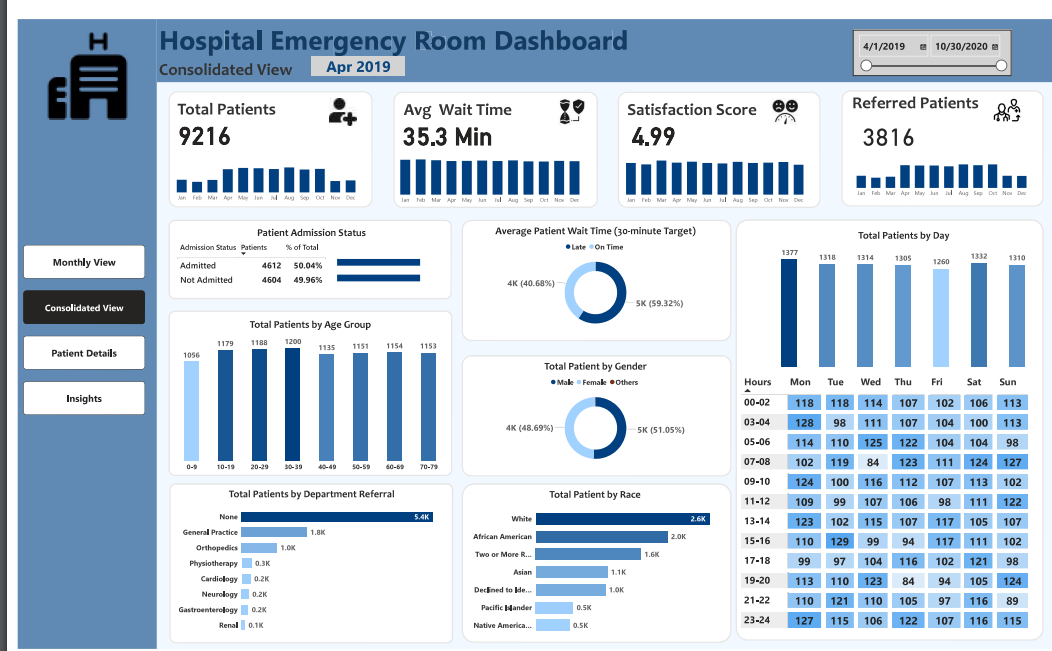

The page's visual inventory and layout, read from the dashboard file:
{"tool":"powerbi","page":{"name":"Consolidated View","canvas":[2300,1400],"ordinal":1},"visuals":[{"type":"textbox","box":[309.3,0,1080.1,96.1],"z":0},{"type":"shape","box":[1596,445.2,685,936.9],"z":0,"group":"g12"},{"type":"shape","box":[335.2,648,630.7,368.1],"z":0,"group":"g6"},{"type":"shape","box":[337,1031.6,630.7,356],"z":0,"group":"g7"},{"type":"shape","box":[0,0,309.3,1399.9],"z":1000},{"type":"clusteredColumnChart","fields":{"Category":["Hospital ER.Age Group"],"Y":["Hospital ER.Total Patients"]},"box":[335.2,663.6,630.7,352.5],"z":1000,"group":"g6"},{"type":"pivotTable","fields":{"Rows":["Hospital ER.Waittime Interval"],"Values":["Hospital ER.Total Patients"],"Columns":["Date Table.Day"]},"box":[1604.7,784.8,665.7,583.2],"z":1000,"group":"g12"},{"type":"clusteredBarChart","title":"Total Patients by Department Referral","fields":{"Category":["Hospital ER.department_referral"],"Y":["Hospital ER.Total Patients"]},"box":[350.8,1040.2,604.8,337],"z":1000,"group":"g7"},{"type":"shape","box":[309.3,0,1990.7,140],"z":2000},{"type":"textbox","box":[308.9,82.8,319.2,56.9],"z":3000},{"type":"shape","box":[335.2,445.8,630,177],"z":3000,"group":"g5"},{"type":"shape","box":[986.7,445.8,600,270],"z":3000,"group":"g8"},{"type":"shape","box":[986.7,746.5,600,270],"z":3000,"group":"g10"},{"type":"shape","box":[987.2,1032.3,600,355],"z":3000,"group":"g11"},{"type":"slicer","fields":{"Values":["Date Table.Date"]},"box":[1856.6,24.2,352,101.8],"z":4000},{"type":"shape","box":[1830.7,158.2,449.7,259.2],"z":4000,"group":"g13"},{"type":"shape","box":[334.7,160.5,454.1,259.2],"z":4000,"group":"g1"},{"type":"shape","box":[834.1,160.7,455.5,259.2],"z":4000,"group":"g2"},{"type":"shape","box":[1334.5,160.7,451.4,259.2],"z":4000,"group":"g3"},{"type":"card","fields":{"Values":["Min(Date Table.Month & Year)"]},"box":[653.9,82.8,207.1,43.1],"z":5000},{"type":"card","fields":{"Values":["Hospital ER.Total Patients"]},"box":[334.7,215.8,160.4,74.3],"z":5000,"group":"g1"},{"type":"card","fields":{"Values":["Hospital ER.Satisgaction Score"]},"box":[1334.5,216,159.4,74.3],"z":5000,"group":"g3"},{"type":"card","fields":{"Values":["Hospital ER.Avg Wait time"]},"box":[849.9,216.5,210.8,74.3],"z":5000,"group":"g2"},{"type":"card","fields":{"Values":["Hospital ER.Referred Patient"]},"box":[1856.7,218.2,158.3,74.3],"z":5000,"group":"g13"},{"type":"group","id":"g1","title":"Group 1","box":[334.7,160.5,1965.3,258.8],"z":6000},{"type":"group","id":"g2","title":"Group 1","box":[831.6,160.7,458.1,259.2],"z":7000},{"type":"textbox","box":[1841.4,157,336.5,75.9],"z":8000,"group":"g13"},{"type":"group","id":"g3","title":"Group 1","box":[1334.5,160.7,451.4,259.2],"z":8000},{"type":"textbox","box":[349.8,171.4,252.3,58.8],"z":8000,"group":"g1"},{"type":"textbox","box":[853.1,171.6,423.4,58.8],"z":8000,"group":"g2"},{"type":"textbox","box":[1342.3,171.6,314,58.7],"z":8000,"group":"g3"},{"type":"group","id":"g4","title":"Group 1","box":[1830.7,157,449.7,260.4],"z":9000},{"type":"columnChart","fields":{"Category":["Date Table.Month"],"Y":["Hospital ER.Referred Patient"]},"box":[1846.8,286.4,414.1,119.1],"z":9000,"group":"g13"},{"type":"columnChart","fields":{"Category":["Date Table.Month"],"Y":["Hospital ER.Total Patients"]},"box":[334.7,290.1,434.6,125],"z":9000,"group":"g1"},{"type":"columnChart","fields":{"Category":["Date Table.Month"],"Y":["Avg(Hospital ER.patient_waittime)"]},"box":[831.6,290.3,436,129.6],"z":9000,"group":"g2"},{"type":"columnChart","fields":{"Category":["Date Table.Month"],"Y":["Hospital ER.Satisfaction Score"]},"box":[1334.5,290.3,432,129.6],"z":9000,"group":"g3"},{"type":"group","id":"g5","title":"Group 2","box":[335.2,445.8,630.7,176.3],"z":10000},{"type":"group","id":"g6","title":"Group 3","box":[335.2,648,630.7,368.1],"z":11000},{"type":"pivotTable","title":"Patient Admission Status","fields":{"Rows":["Hospital ER.Admission Status"],"Values":["Hospital ER.Total Patients1","Hospital ER.Total Patients"]},"box":[350.8,459.6,604.8,148.6],"z":12000,"group":"g5"},{"type":"group","id":"g7","title":"Group 4","box":[337,1031.6,630.7,356],"z":12000},{"type":"group","id":"g8","title":"Group 5","box":[986.7,445.8,599.6,269.6],"z":13000},{"type":"barChart","fields":{"Category":["Hospital ER.Admission Status"],"Y":["Hospital ER.Total Patients"]},"box":[705,502.8,250.6,105.4],"z":13000,"group":"g5"},{"type":"group","id":"g9","title":"Group 5","box":[986.7,746.5,600,270],"z":14000},{"type":"donutChart","title":"Average Patient Wait Time (30-minute Target)","fields":{"Y":["Hospital ER.Total Patients"],"Category":["Hospital ER.Wait Time  Status"]},"box":[995.3,456.2,577.2,243.7],"z":14008,"group":"g8"},{"type":"donutChart","title":"Total Patient by Gender","fields":{"Y":["Hospital ER.Total Patients"],"Category":["Hospital ER.patient_gender"]},"box":[995.3,756.9,577.2,243.7],"z":14008,"group":"g10"},{"type":"clusteredBarChart","title":"Total Patient by Race","fields":{"Category":["Hospital ER.patient_race"],"Y":["Hospital ER.Total Patients"]},"box":[995.5,1042.2,577.2,340.4],"z":14008,"group":"g11"},{"type":"group","id":"g10","title":"Group 6","box":[986.7,746.5,600,270],"z":14011,"group":"g9"},{"type":"group","id":"g11","title":"Group 5","box":[987.2,1032.3,600,355],"z":15000},{"type":"group","id":"g12","title":"Group 3","box":[1596,445.2,685,936.9],"z":16000},{"type":"columnChart","fields":{"Category":["Date Table.Day"],"Y":["Hospital ER.Total Patients"]},"box":[1692.6,465.9,553.9,312.3],"z":17000},{"type":"image","box":[12.1,24.2,284.7,203.6],"z":18000},{"type":"image","box":[788.5,160.8,1511,259],"z":18003,"group":"g1"},{"type":"image","box":[666,170.8,113.9,69],"z":19000},{"type":"image","box":[1175,170.8,112.2,69],"z":20000},{"type":"image","box":[1649.5,170.8,112.2,69],"z":21000},{"type":"pageNavigator","box":[12.1,502.1,270.9,379.6],"z":22000},{"type":"group","id":"g13","title":"Group 7","box":[1830.7,157,449.7,260.4],"z":22001,"group":"g4"},{"type":"image","box":[2144.7,170.8,112,69],"z":23000}]}

Visuals, with their boxes in screenshot pixels (x1, y1, x2, y2), scaled from the page's 2300x1400 canvas onto the 1052x651 screenshot:
textbox: (x1=141, y1=0, x2=635, y2=45)
shape: (x1=730, y1=207, x2=1043, y2=643)
shape: (x1=153, y1=301, x2=442, y2=472)
shape: (x1=154, y1=480, x2=443, y2=645)
shape: (x1=0, y1=0, x2=141, y2=650)
clusteredColumnChart - Hospital ER.Age Group x Hospital ER.Total Patients: (x1=153, y1=309, x2=442, y2=472)
pivotTable - Hospital ER.Waittime Interval x Hospital ER.Total Patients: (x1=734, y1=365, x2=1038, y2=636)
"Total Patients by Department Referral" clusteredBarChart: (x1=160, y1=484, x2=437, y2=640)
shape: (x1=141, y1=0, x2=1051, y2=65)
textbox: (x1=141, y1=39, x2=287, y2=65)
shape: (x1=153, y1=207, x2=441, y2=290)
shape: (x1=451, y1=207, x2=726, y2=333)
shape: (x1=451, y1=347, x2=726, y2=473)
shape: (x1=452, y1=480, x2=726, y2=645)
slicer - Date Table.Date: (x1=849, y1=11, x2=1010, y2=59)
shape: (x1=837, y1=74, x2=1043, y2=194)
shape: (x1=153, y1=75, x2=361, y2=195)
shape: (x1=382, y1=75, x2=590, y2=195)
shape: (x1=610, y1=75, x2=817, y2=195)
card - Min(Date Table.Month & Year): (x1=299, y1=39, x2=394, y2=59)
card - Hospital ER.Total Patients: (x1=153, y1=100, x2=226, y2=135)
card - Hospital ER.Satisgaction Score: (x1=610, y1=100, x2=683, y2=135)
card - Hospital ER.Avg Wait time: (x1=389, y1=101, x2=485, y2=135)
card - Hospital ER.Referred Patient: (x1=849, y1=101, x2=922, y2=136)
"Group 1" group: (x1=153, y1=75, x2=1051, y2=195)
"Group 1" group: (x1=380, y1=75, x2=590, y2=195)
textbox: (x1=842, y1=73, x2=996, y2=108)
"Group 1" group: (x1=610, y1=75, x2=817, y2=195)
textbox: (x1=160, y1=80, x2=275, y2=107)
textbox: (x1=390, y1=80, x2=584, y2=107)
textbox: (x1=614, y1=80, x2=758, y2=107)
"Group 1" group: (x1=837, y1=73, x2=1043, y2=194)
columnChart - Date Table.Month x Hospital ER.Referred Patient: (x1=845, y1=133, x2=1034, y2=189)
columnChart - Date Table.Month x Hospital ER.Total Patients: (x1=153, y1=135, x2=352, y2=193)
columnChart - Date Table.Month x Avg(Hospital ER.patient_waittime): (x1=380, y1=135, x2=580, y2=195)
columnChart - Date Table.Month x Hospital ER.Satisfaction Score: (x1=610, y1=135, x2=808, y2=195)
"Group 2" group: (x1=153, y1=207, x2=442, y2=289)
"Group 3" group: (x1=153, y1=301, x2=442, y2=472)
"Patient Admission Status" pivotTable: (x1=160, y1=214, x2=437, y2=283)
"Group 4" group: (x1=154, y1=480, x2=443, y2=645)
"Group 5" group: (x1=451, y1=207, x2=726, y2=333)
barChart - Hospital ER.Admission Status x Hospital ER.Total Patients: (x1=322, y1=234, x2=437, y2=283)
"Group 5" group: (x1=451, y1=347, x2=726, y2=473)
"Average Patient Wait Time (30-minute Target)" donutChart: (x1=455, y1=212, x2=719, y2=325)
"Total Patient by Gender" donutChart: (x1=455, y1=352, x2=719, y2=465)
"Total Patient by Race" clusteredBarChart: (x1=455, y1=485, x2=719, y2=643)
"Group 6" group: (x1=451, y1=347, x2=726, y2=473)
"Group 5" group: (x1=452, y1=480, x2=726, y2=645)
"Group 3" group: (x1=730, y1=207, x2=1043, y2=643)
columnChart - Date Table.Day x Hospital ER.Total Patients: (x1=774, y1=217, x2=1028, y2=362)
image: (x1=6, y1=11, x2=136, y2=106)
image: (x1=361, y1=75, x2=1051, y2=195)
image: (x1=305, y1=79, x2=357, y2=112)
image: (x1=537, y1=79, x2=589, y2=112)
image: (x1=754, y1=79, x2=806, y2=112)
pageNavigator: (x1=6, y1=233, x2=129, y2=410)
"Group 7" group: (x1=837, y1=73, x2=1043, y2=194)
image: (x1=981, y1=79, x2=1032, y2=112)
